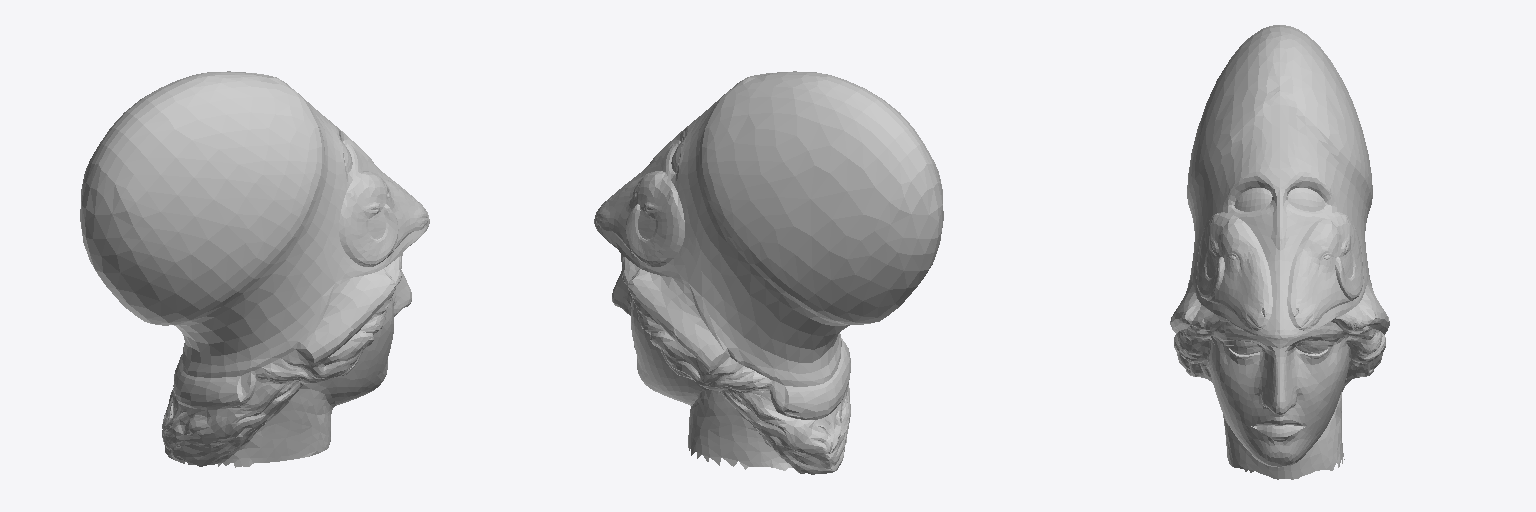
File: atenea.obj
The picture shows the model from 3 angles: view 1: azimuth 30°, elevation 25°; view 2: azimuth 150°, elevation 25°; view 3: azimuth 270°, elevation 25°; orthographic projection.
Visible parts, largest first — view 1: Mesh; view 2: Mesh; view 3: Mesh.
Part boxes in pixels (x1,y1,x2,y2): Mesh: (80, 71, 429, 467); Mesh: (594, 71, 943, 474); Mesh: (1170, 25, 1389, 479).
Size of the model in its own units: 7.08 by 7.58 by 3.95.